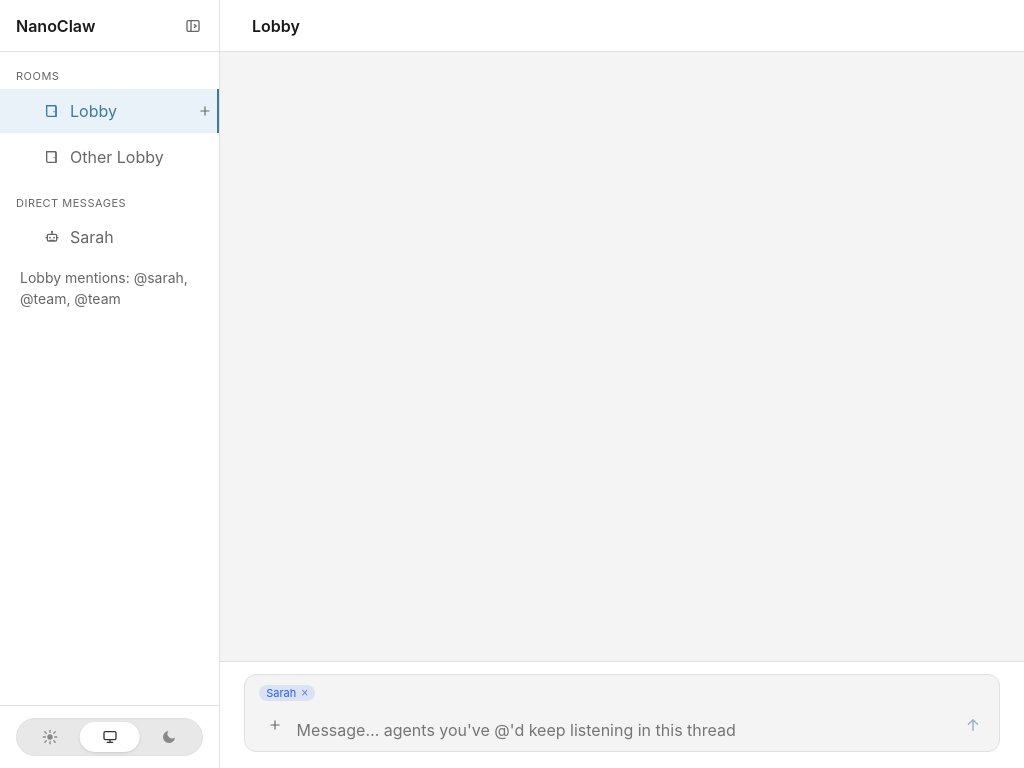
Scenario: App › shows generic error when disengage throws a non-Error
The image size is (1024, 768).
What coordinates should you click on to do the following:
click the button named "Stop Sarah from listening"
I would click on:
 (305, 693)
Its box is [298, 686, 312, 700].
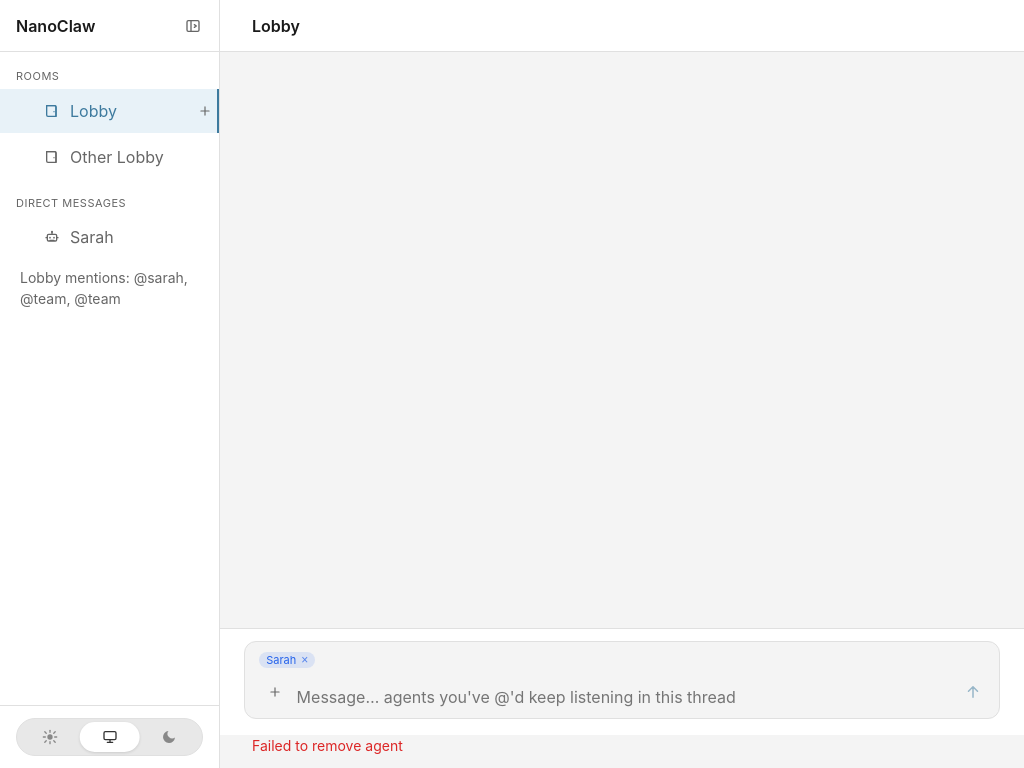
Check: the text "Failed to remove agent" is shown, box [252, 737, 403, 754]
